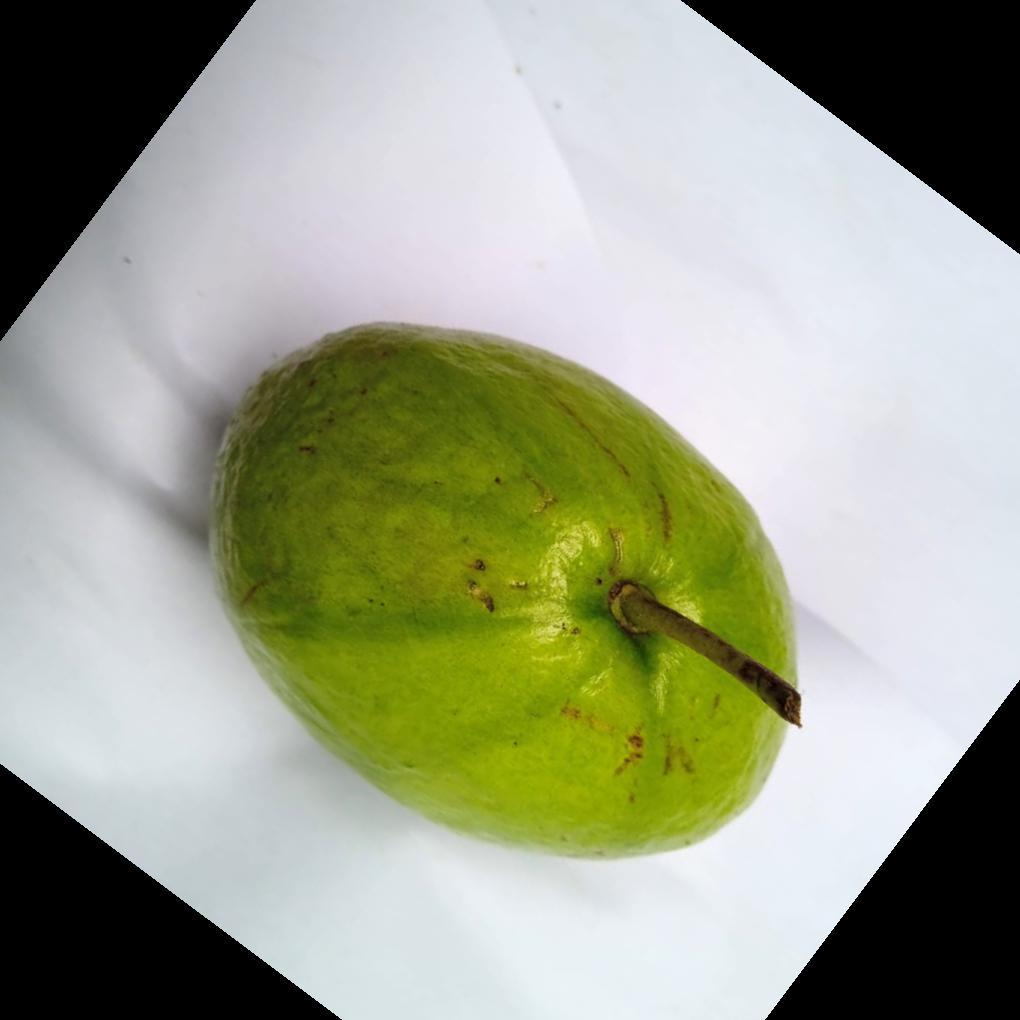FreshGuava: (207, 324, 803, 865)
